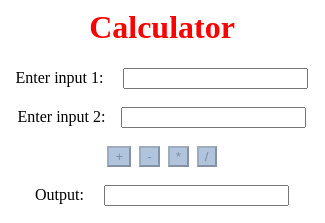
Scenario: Calculator test › should render the result when operator is clicked
The image size is (325, 223).
Step 1. Type "10" into the number field labelled "Enter input 1:" → (216, 78), box [124,68,308,89]
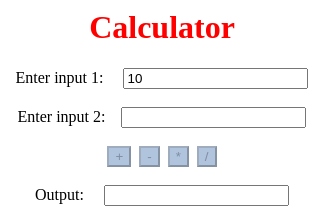
Step 2. Type "2" into the number field labelled "Enter input 2:" → (214, 117), box [122,107,306,128]
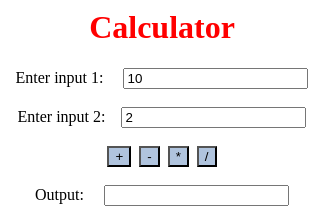
Step 3. Click the button "*" → (178, 156), box [168,146,189,167]
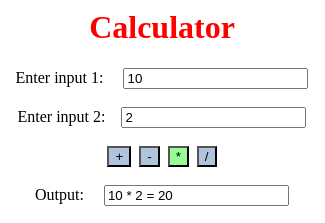
Check: the field labelled "Output:" holds "10 * 2 = 20", box [104,185,289,206]
